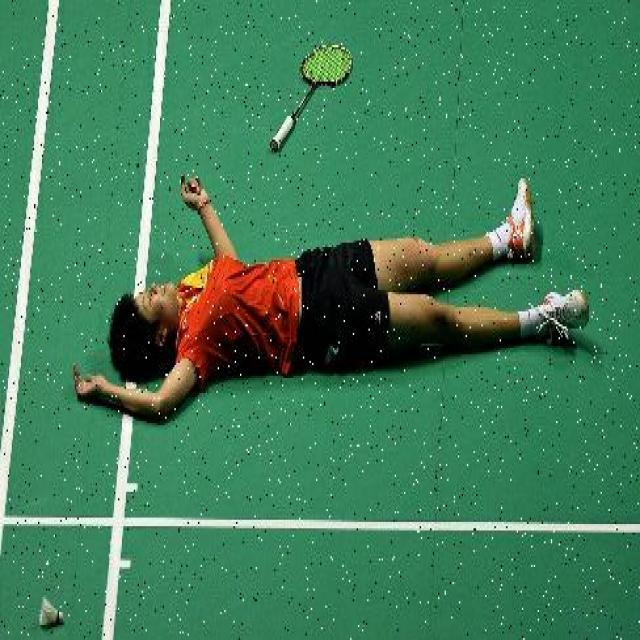fall: (70, 176, 586, 419)
